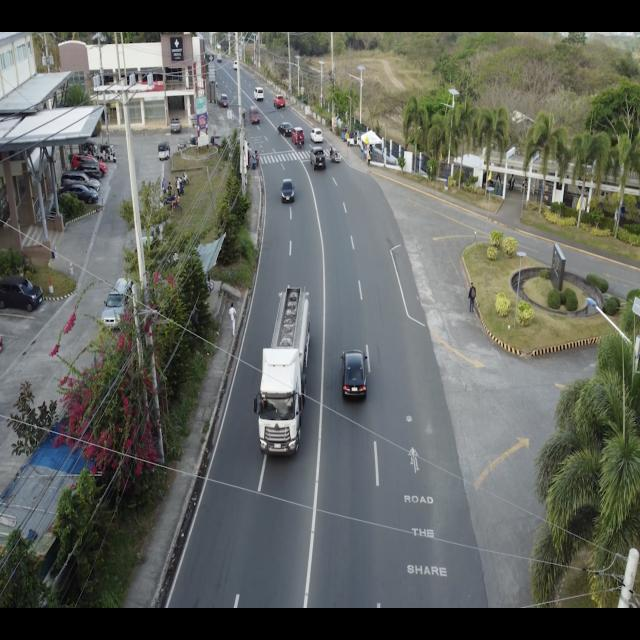car: (100, 276, 136, 332), (0, 272, 43, 314), (340, 347, 370, 405), (60, 170, 102, 194), (71, 152, 109, 178), (61, 184, 98, 205), (70, 162, 102, 180), (308, 146, 326, 172), (280, 177, 296, 204), (278, 122, 294, 140), (291, 126, 305, 144), (310, 127, 324, 144), (249, 105, 260, 125), (274, 94, 286, 110), (253, 86, 264, 101), (220, 93, 229, 109)
motorcycle: (329, 146, 342, 166), (296, 132, 304, 151)
person: (467, 281, 477, 315), (160, 177, 168, 197), (175, 176, 181, 198), (366, 149, 372, 167)
truck: (251, 284, 312, 463)
